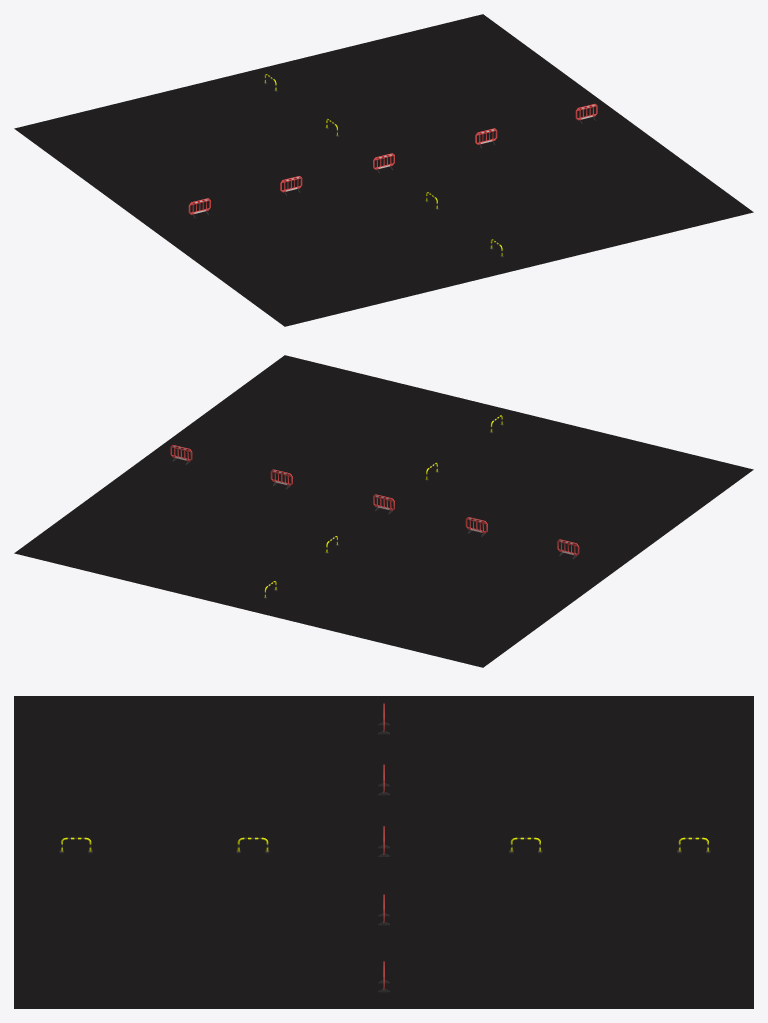
The model's file is Tile 9_Combined_2.fbx.
3 renders of one model, top to bottom at view 1: azimuth 30°, elevation 25°; view 2: azimuth 150°, elevation 25°; view 3: azimuth 270°, elevation 25°, orthographic. The views are drawn at different scales.
Parts seen in each view (by area): view 1: MeshBaker_Cluster_0_mesh_mesh; view 2: MeshBaker_Cluster_0_mesh_mesh; view 3: MeshBaker_Cluster_0_mesh_mesh.
Part boxes in pixels (bbox=[...]): MeshBaker_Cluster_0_mesh_mesh: bbox=[14, 14, 753, 326]; MeshBaker_Cluster_0_mesh_mesh: bbox=[14, 355, 753, 667]; MeshBaker_Cluster_0_mesh_mesh: bbox=[14, 696, 753, 1008].
Size of the model in its own units: 3000 by 92.66 by 3000.
